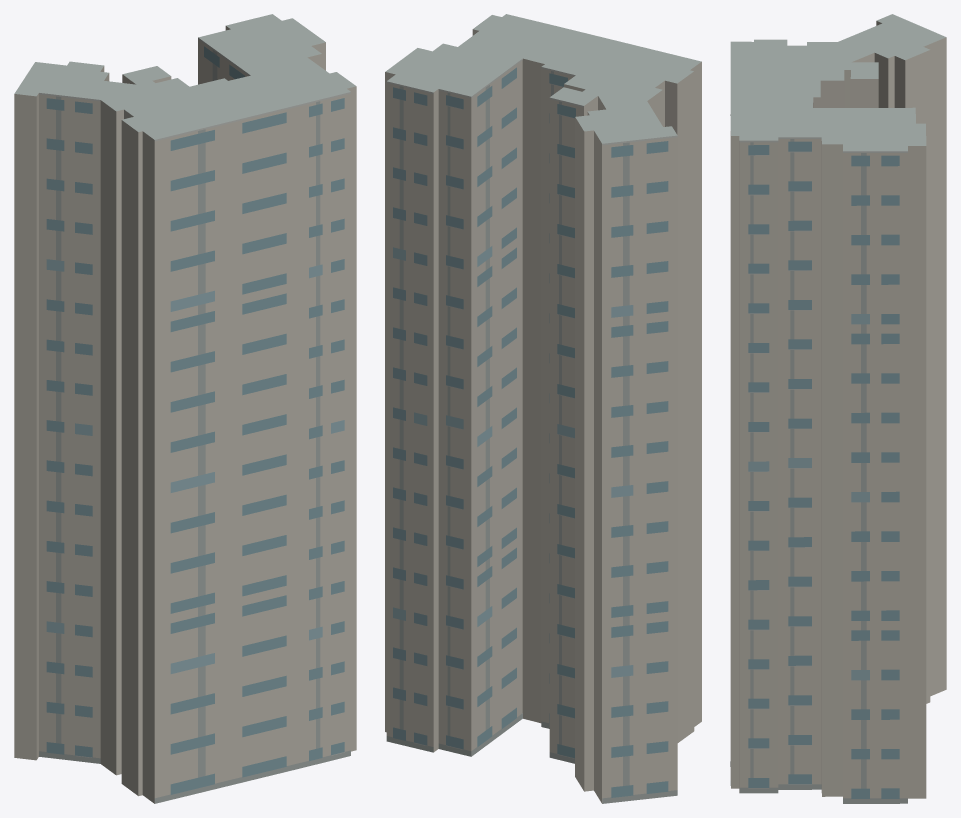
File: residential-24fd8080-cf83-4b09-bd8e-3a831193dd90.glb
The picture shows the model from 3 angles, left to right: view 1: azimuth 30°, elevation 25°; view 2: azimuth 150°, elevation 25°; view 3: azimuth 270°, elevation 25°; orthographic projection.
Visible parts, largest first — view 1: residential-24fd8080-cf83-4b09-bd8e-3a831193dd90.tmp; view 2: residential-24fd8080-cf83-4b09-bd8e-3a831193dd90.tmp; view 3: residential-24fd8080-cf83-4b09-bd8e-3a831193dd90.tmp.
Boxes of the visible parts, x1,y1,x2,y2 form: residential-24fd8080-cf83-4b09-bd8e-3a831193dd90.tmp: (14,14,356,803); residential-24fd8080-cf83-4b09-bd8e-3a831193dd90.tmp: (385,14,701,803); residential-24fd8080-cf83-4b09-bd8e-3a831193dd90.tmp: (730,14,946,803).
Size of the model in its own units: 44.74 by 99 by 29.71.
